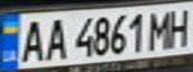1: (124, 9, 148, 53)
4: (69, 14, 97, 57)
6: (109, 11, 130, 55)
8: (90, 12, 112, 56)
A: (15, 16, 48, 63), (39, 15, 69, 61)
H: (163, 5, 193, 48)
M: (145, 7, 175, 51)
